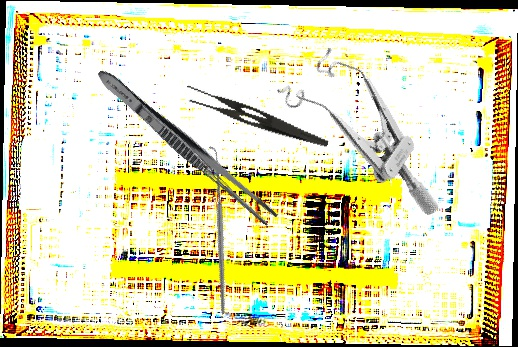Dressing Forceps: (91, 64, 282, 229), (181, 82, 334, 149)
Hook Surgical: (142, 145, 291, 316)
Speculum: (265, 36, 479, 218)
